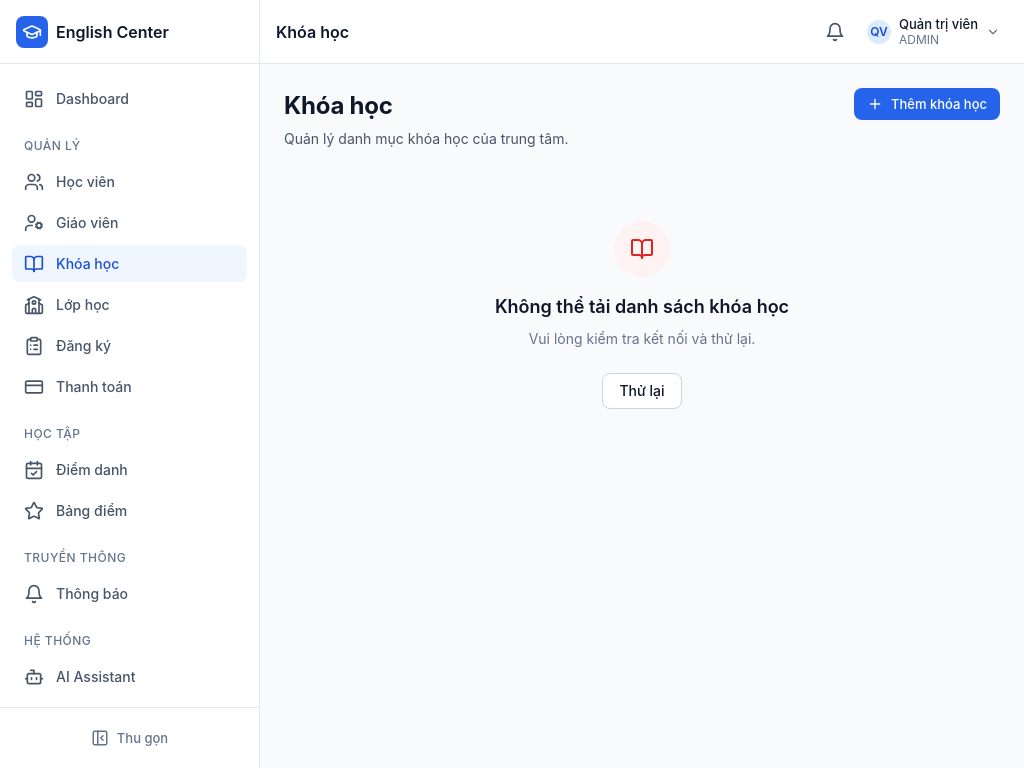
CoursesPage › shows an error state and refetches when retrying
Expected: the heading "Không thể tải danh sách khóa học" is shown, [495,293,789,320]
Click the button "Thử lại".
click(642, 391)  # box [602,373,682,409]
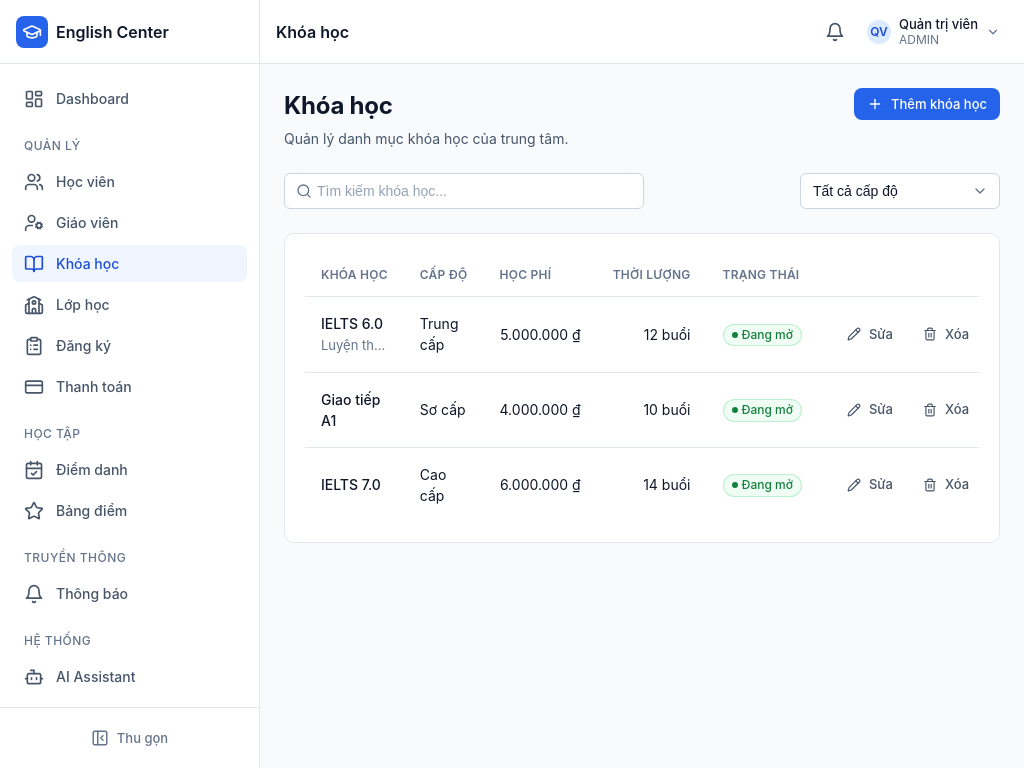
Expected: the text "IELTS 6.0" is shown, [321,313,388,334]
